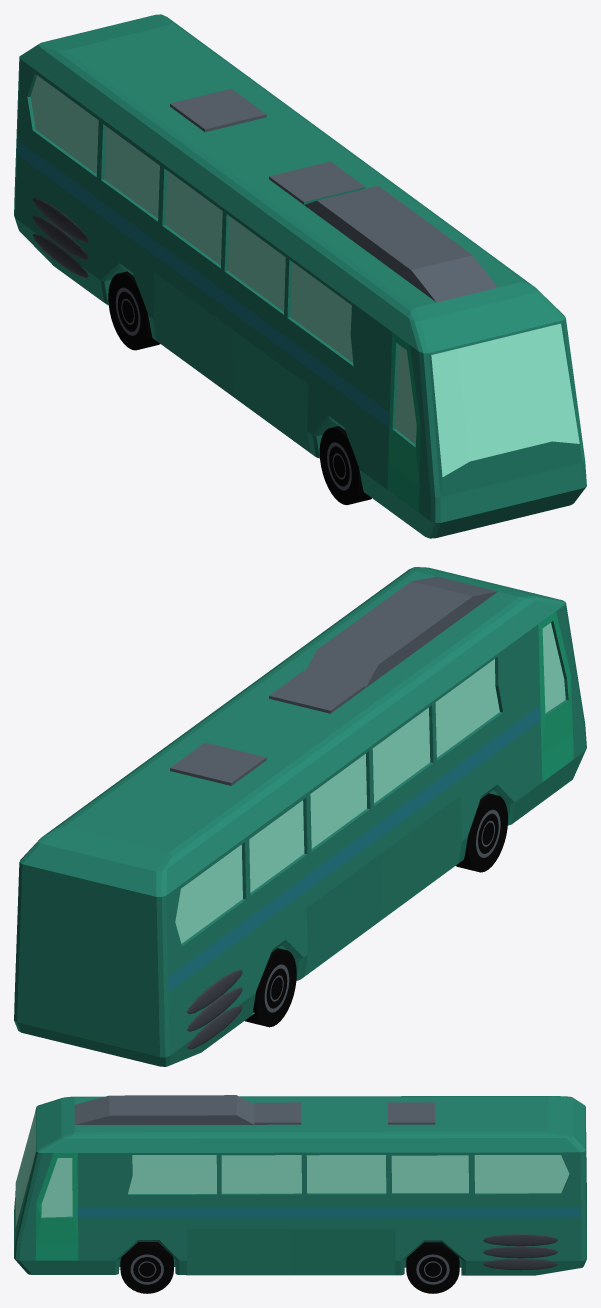
Rendered from CityBusNew.fbx.
3 renders of one model, top to bottom at view 1: azimuth 30°, elevation 25°; view 2: azimuth 150°, elevation 25°; view 3: azimuth 270°, elevation 25°, orthographic. The views are drawn at different scales.
Parts seen in each view (by area): view 1: Bus; view 2: Bus; view 3: Bus.
Part boxes in pixels (box(x1,y1,x2,y2)): Bus: box(14, 14, 586, 538); Bus: box(14, 567, 586, 1066); Bus: box(14, 1095, 586, 1293).
Bounding box in the file's own units: 385 × 569 × 1801.
